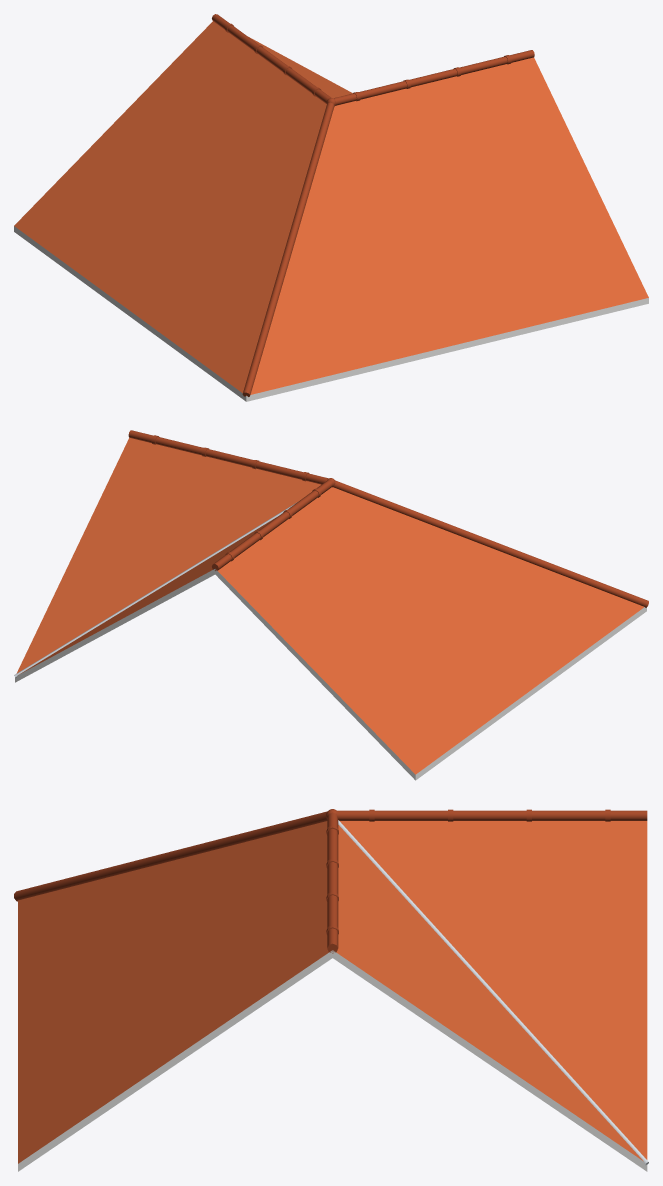
The model's file is telhado_canto_l_v8_i75.glb.
3 renders of one model, top to bottom at view 1: azimuth 30°, elevation 25°; view 2: azimuth 150°, elevation 25°; view 3: azimuth 270°, elevation 25°, orthographic. The views are drawn at different scales.
Visible parts, largest first — view 1: telhado_canto_l_v8_i75; view 2: telhado_canto_l_v8_i75; view 3: telhado_canto_l_v8_i75.
Boxes of the visible parts, x1,y1,x2,y2 form: telhado_canto_l_v8_i75: (14,14,648,401); telhado_canto_l_v8_i75: (14,430,648,780); telhado_canto_l_v8_i75: (14,809,648,1171).
Size of the model in its own units: 8.07 by 3.22 by 8.07.
4 materials, 1 textured.
